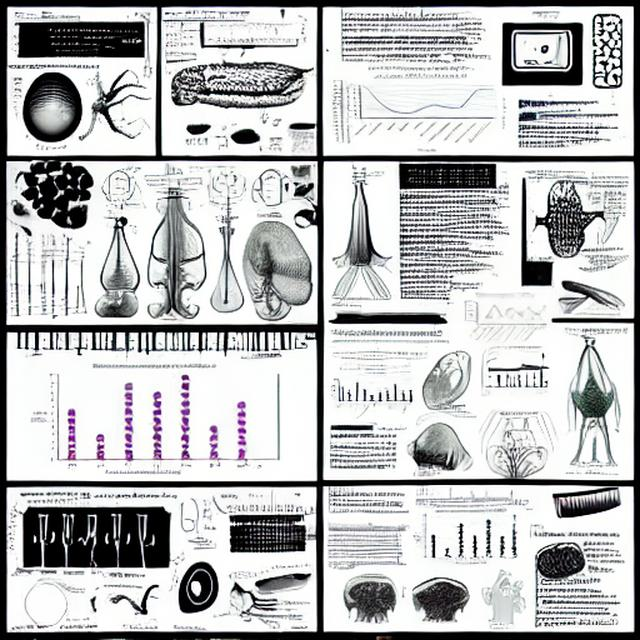Graph: (24, 359, 233, 480), (344, 64, 499, 153), (411, 509, 510, 566), (326, 365, 415, 424), (461, 291, 549, 343)
